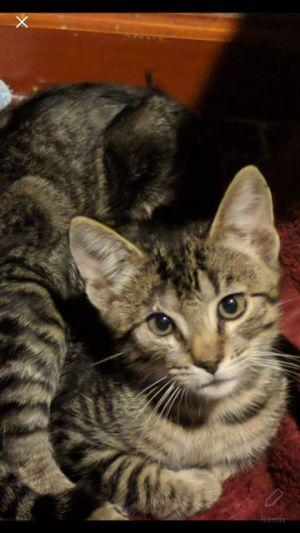bengal: (65, 160, 298, 410)
